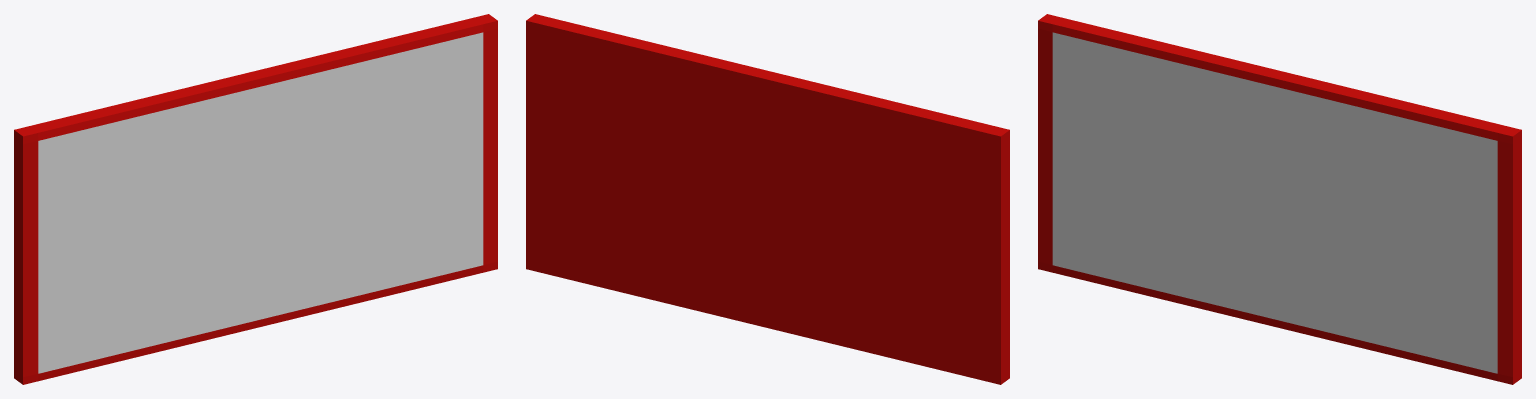
3 renders of one model, left to right at view 1: azimuth 30°, elevation 25°; view 2: azimuth 150°, elevation 25°; view 3: azimuth 330°, elevation 25°, orthographic.
Parts seen in each view (by area): view 1: TV; view 2: TV; view 3: TV.
Part boxes in pixels (box(x1,y1,x2,y2)): TV: box(14, 14, 497, 384); TV: box(526, 14, 1009, 384); TV: box(1038, 14, 1521, 384).
Size of the model in its own units: 1.2 by 0.6 by 0.0415.
